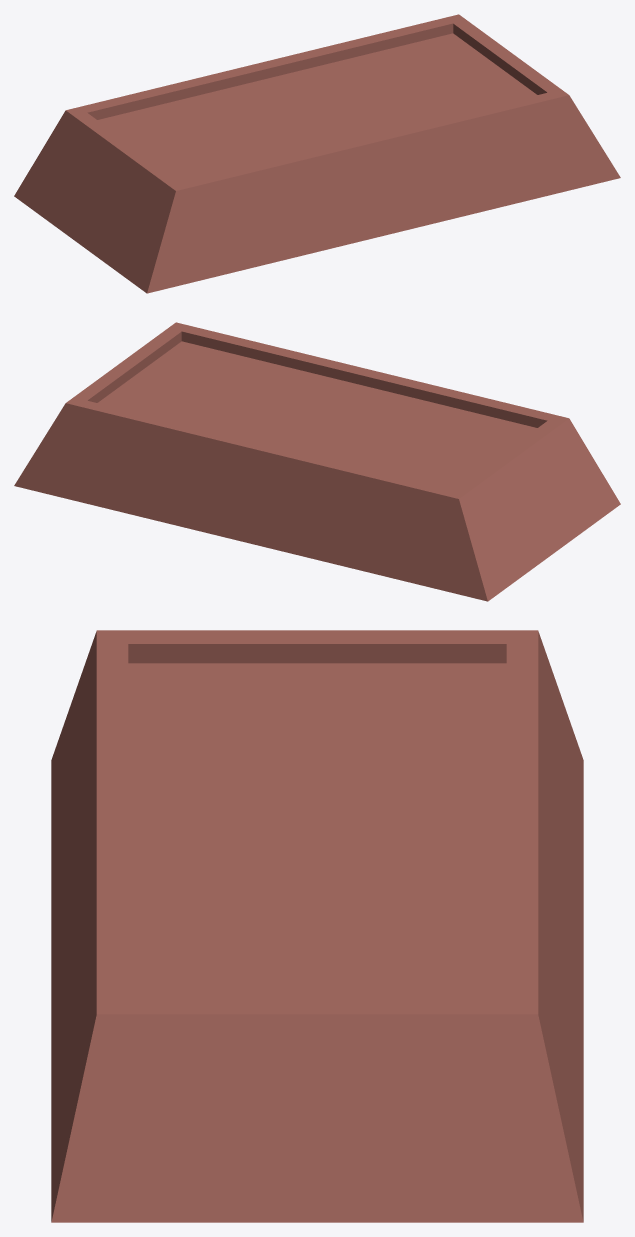
The model's file is cooper_ingot.fbx.
3 renders of one model, top to bottom at view 1: azimuth 30°, elevation 25°; view 2: azimuth 150°, elevation 25°; view 3: azimuth 270°, elevation 25°, orthographic. The views are drawn at different scales.
Parts seen in each view (by area): view 1: Cube; view 2: Cube; view 3: Cube.
Boxes of the visible parts, x1,y1,x2,y2 form: Cube: (14,14,620,293); Cube: (14,322,620,601); Cube: (51,630,583,1222).
Bounding box in the file's own units: 24.3 × 50 × 8.51.
